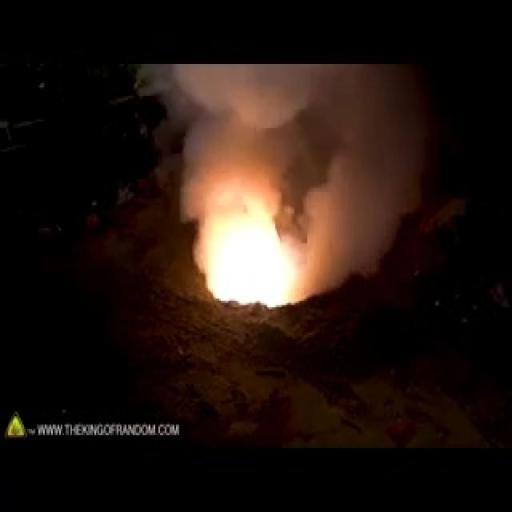smoke: (183, 156, 305, 296)
